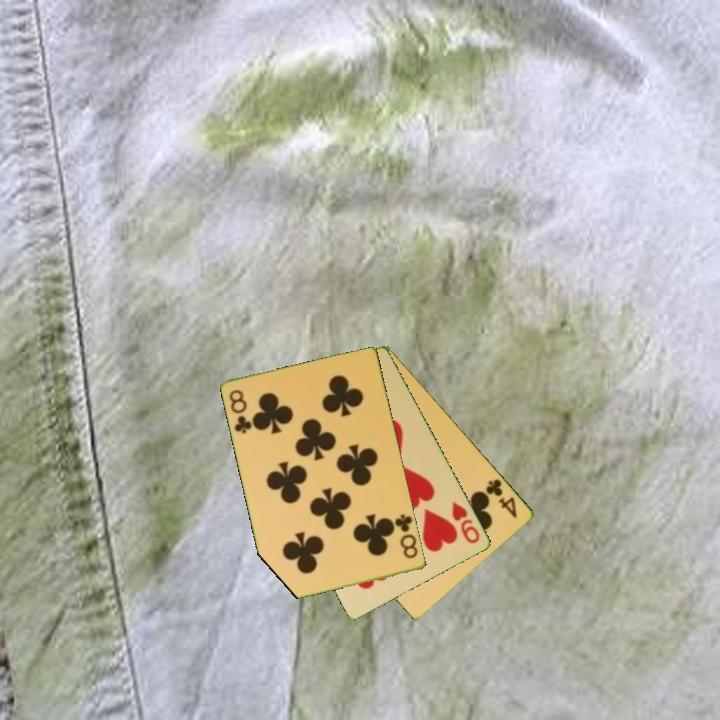4c: (482, 475, 520, 521)
8c: (389, 511, 421, 562), (226, 386, 255, 437)
9h: (449, 498, 483, 547)
